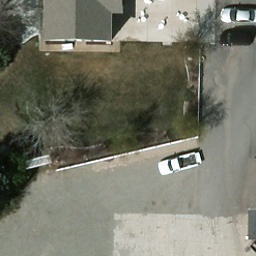car: (220, 30, 252, 46)
pickup: (157, 149, 203, 176)
